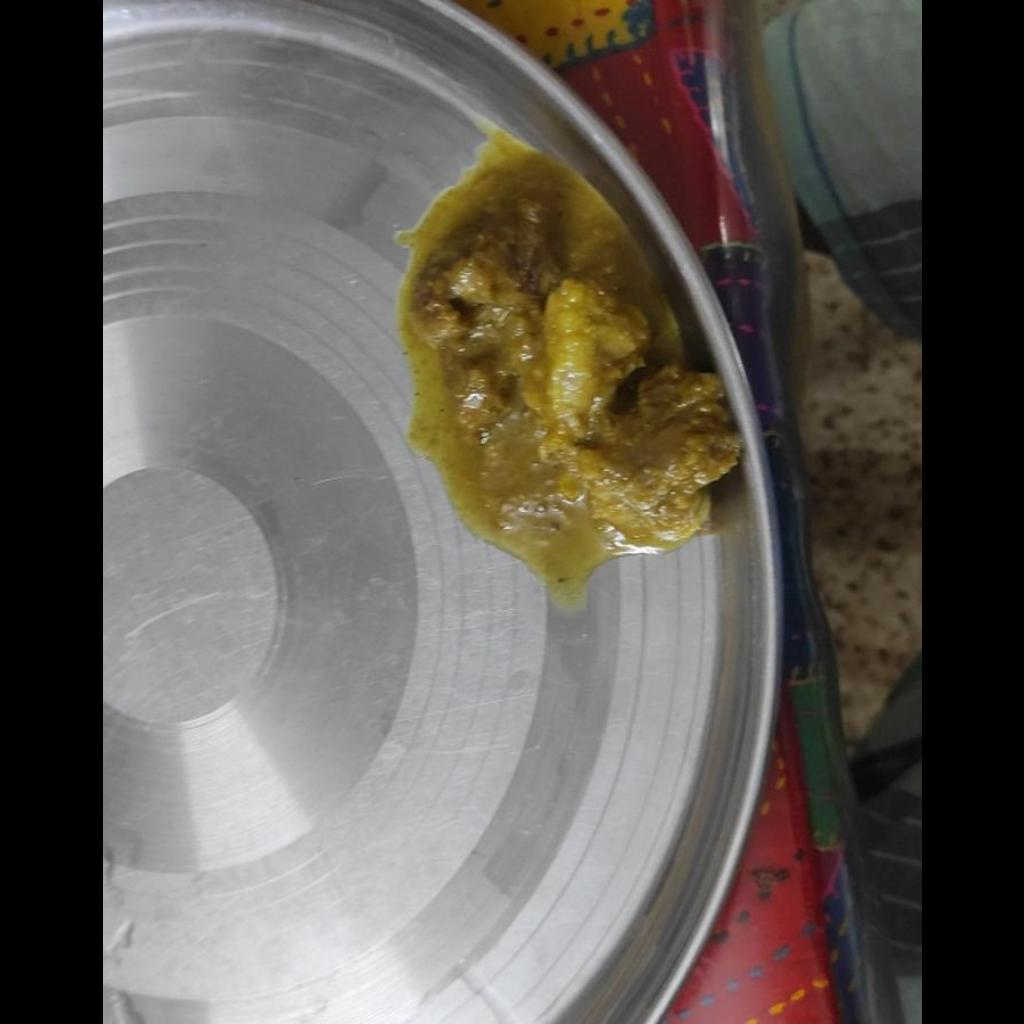chicken: (408, 198, 739, 558)
